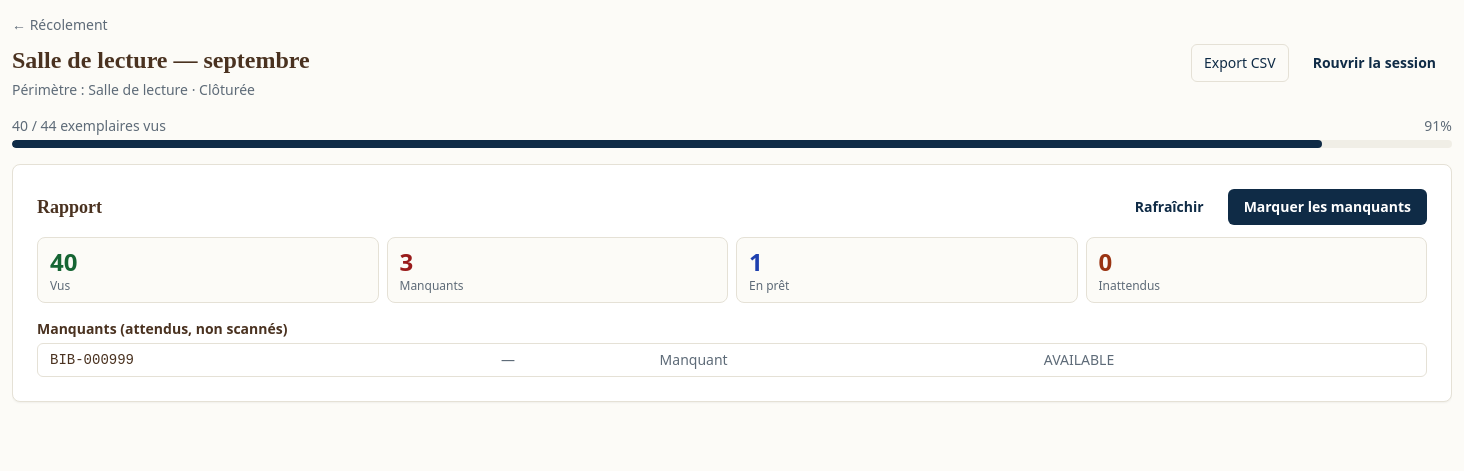
Test: quand on rouvre › l’écran dit que c’est rouvert, et qu’on peut reprendre
Expected: the heading "Salle de lecture — septembre" is shown, [12,44,310,76]
Click the button "Rouvrir la session" at (1374, 63), box [1297,44,1452,82]
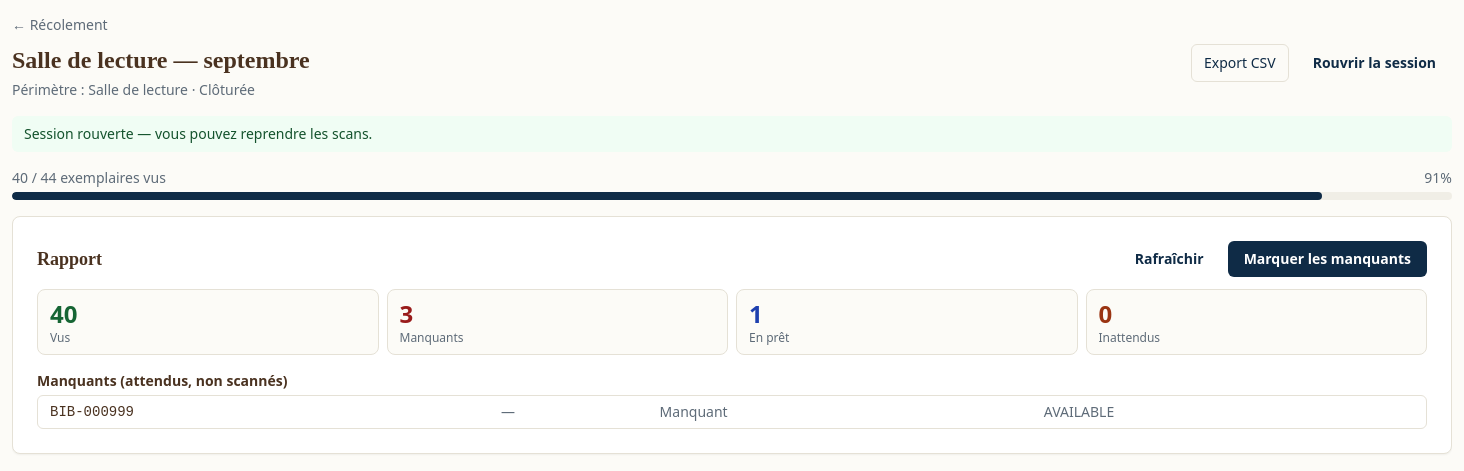
Expected: the text "Session rouverte — vous pouvez reprendre les scans." is shown, [12,116,1452,152]
